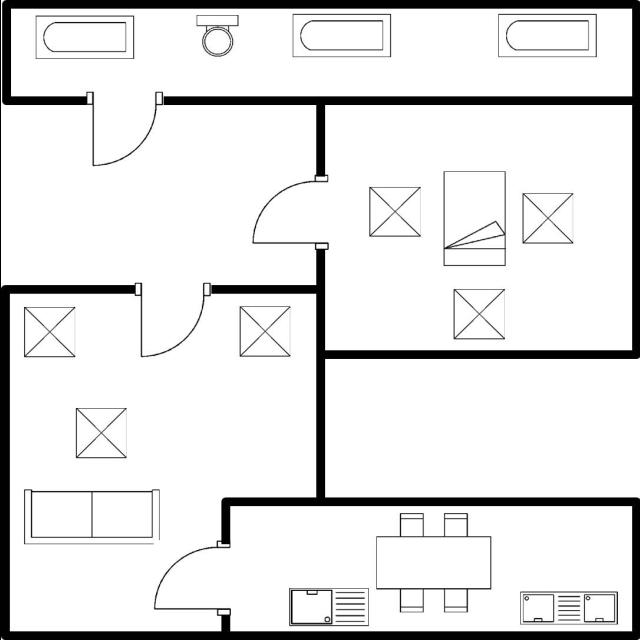bed: (436, 166, 510, 270)
coffee_table: (68, 401, 134, 464), (234, 299, 296, 361), (362, 182, 426, 242), (18, 302, 80, 362), (517, 188, 577, 248), (449, 284, 508, 342)
dining_table: (371, 509, 495, 616)
large_sink: (192, 12, 242, 59)
large_sofa: (19, 482, 164, 548)
sink: (281, 582, 373, 630)
tub: (490, 10, 602, 63), (287, 9, 395, 62), (32, 10, 140, 62)
twin_sink: (512, 586, 621, 628)
